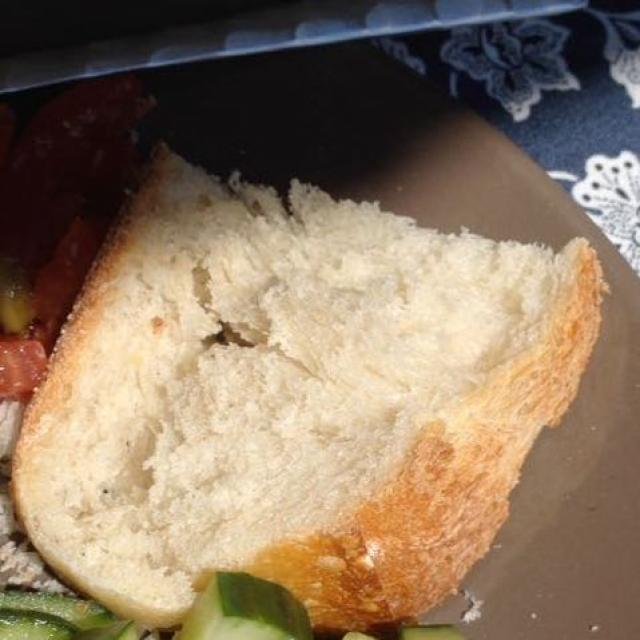bread: (21, 161, 601, 630)
